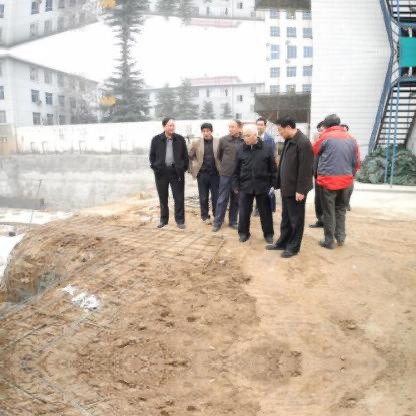No Safety Helmet: (275, 115, 302, 138), (323, 112, 345, 138), (241, 124, 261, 148), (160, 116, 177, 137), (199, 122, 215, 142), (228, 119, 243, 139), (255, 117, 267, 136)
